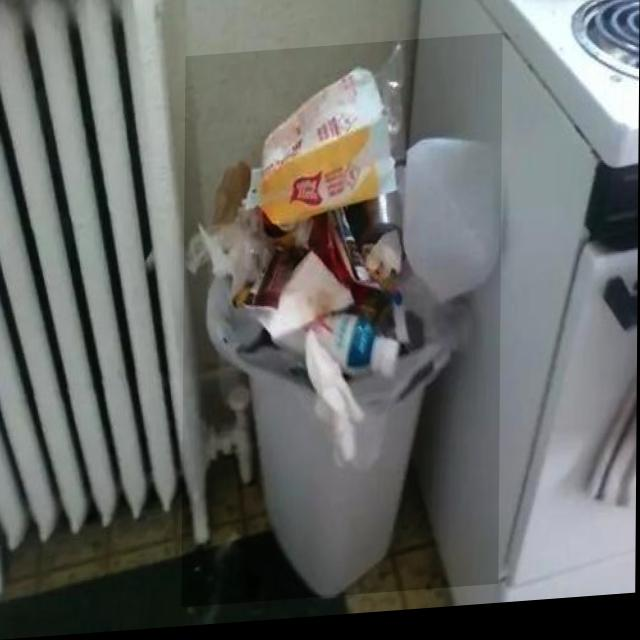overflow: (182, 41, 503, 610)
